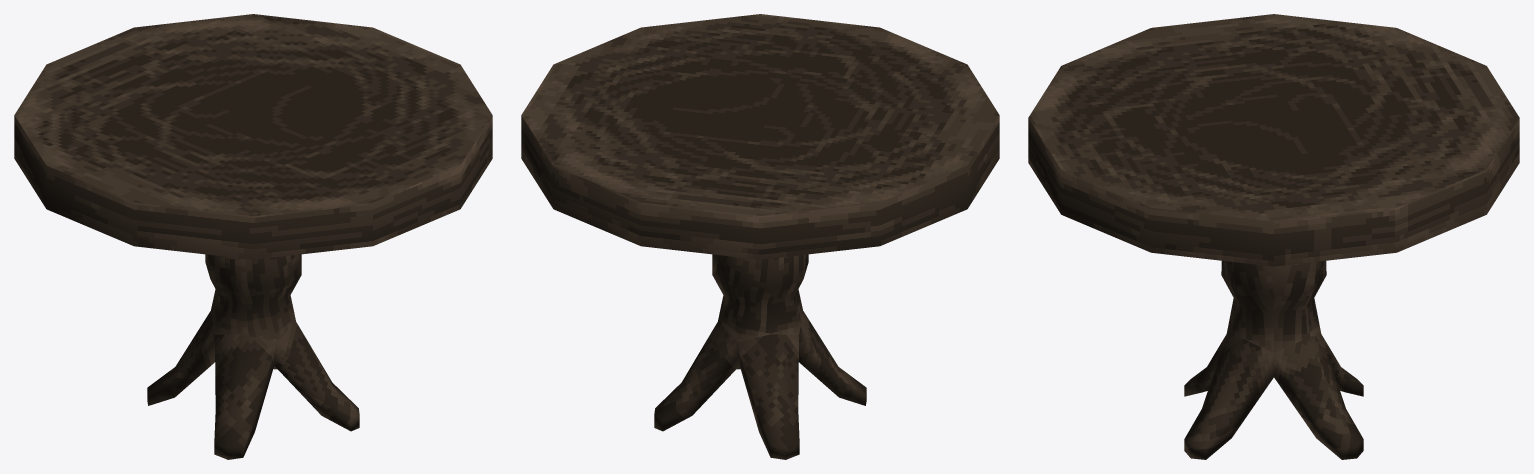
Rendered from Mesa2.fbx.
The picture shows the model from 3 angles, left to right: view 1: azimuth 30°, elevation 25°; view 2: azimuth 150°, elevation 25°; view 3: azimuth 270°, elevation 25°; orthographic projection. The views are drawn at different scales.
Visible parts, largest first — view 1: Mesa que mas aplauda; view 2: Mesa que mas aplauda; view 3: Mesa que mas aplauda.
Boxes of the visible parts, bbox=[...] form: Mesa que mas aplauda: bbox=[14, 14, 492, 459]; Mesa que mas aplauda: bbox=[521, 14, 999, 459]; Mesa que mas aplauda: bbox=[1028, 14, 1519, 459].
Bounding box in the file's own units: 200 × 138 × 200.
1 material, 1 textured.
